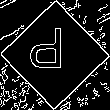P_S: (36, 30, 74, 80)
